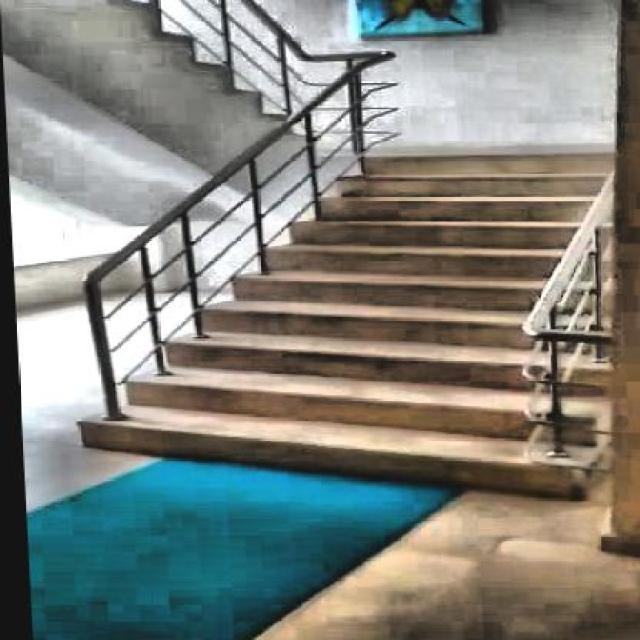stair: (76, 129, 610, 506)
